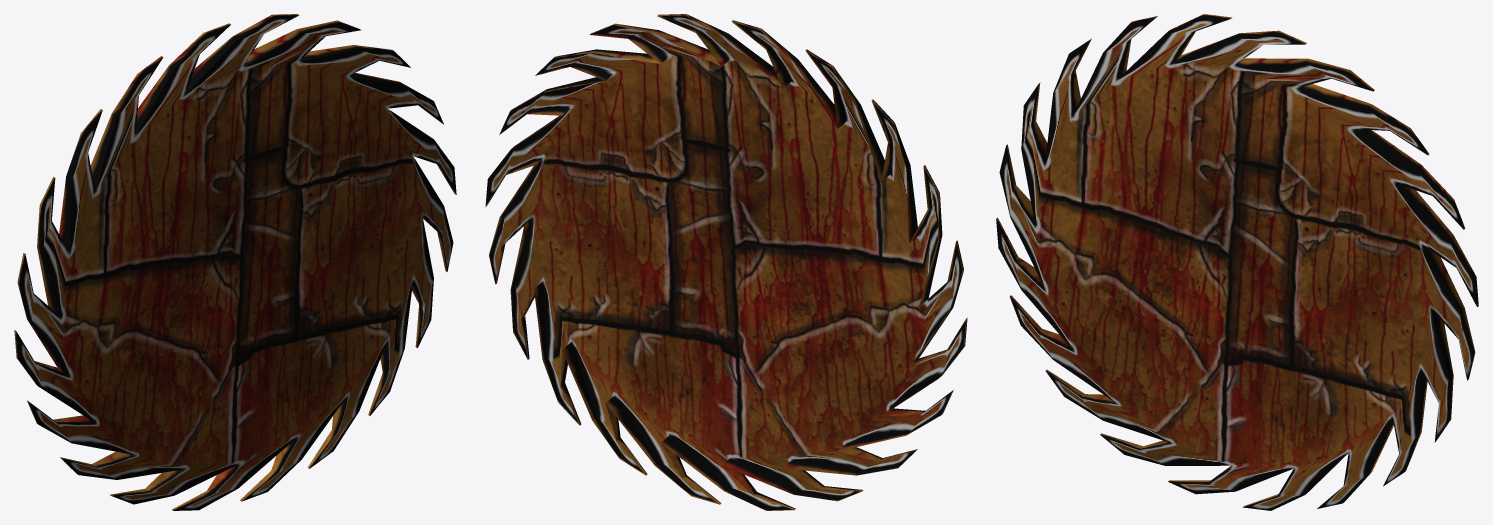
The model's file is circularsawbladeTurned.fbx.
The picture shows the model from 3 angles, left to right: view 1: azimuth 30°, elevation 25°; view 2: azimuth 150°, elevation 25°; view 3: azimuth 330°, elevation 25°; orthographic projection.
Visible parts, largest first — view 1: pCylinder1; view 2: pCylinder1; view 3: pCylinder1.
Boxes of the visible parts, x1=… form: pCylinder1: x1=14, y1=14, x2=456, y2=510; pCylinder1: x1=485, y1=14, x2=967, y2=510; pCylinder1: x1=996, y1=14, x2=1478, y2=510.
Size of the model in its own units: 2.43 by 2.44 by 0.2314.
